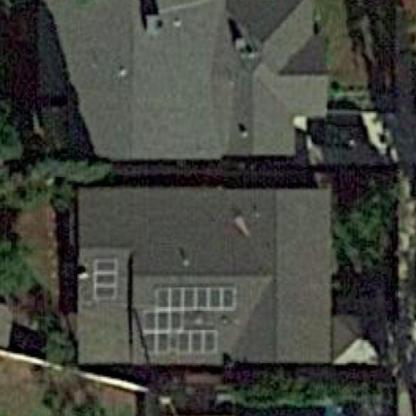solar_panel: (138, 277, 238, 352), (89, 250, 121, 309)
